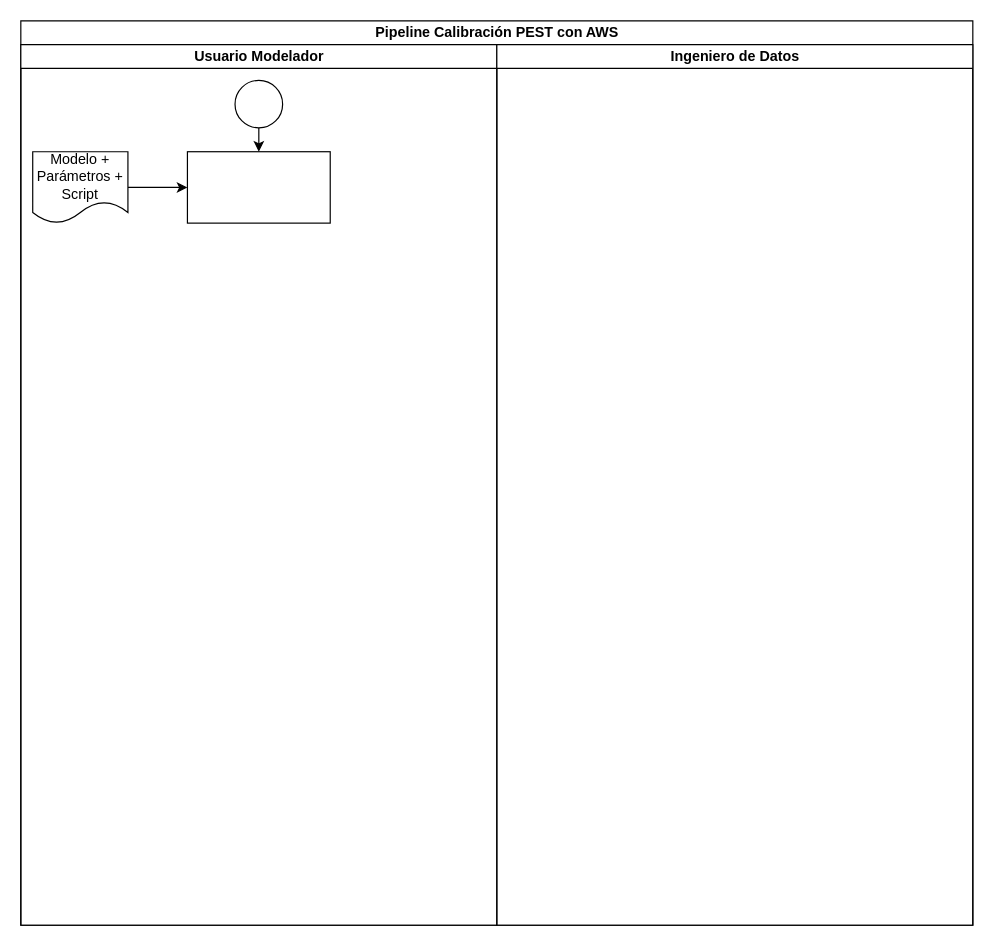
Some shapes in this 994 by 946 pixel diagram are drawn without their labels. The centre of each missing label's shape, as x and y in pixels:
"Generar Modelo de Calibración" goes at point (258, 187).
"Inicio" goes at point (258, 103).
